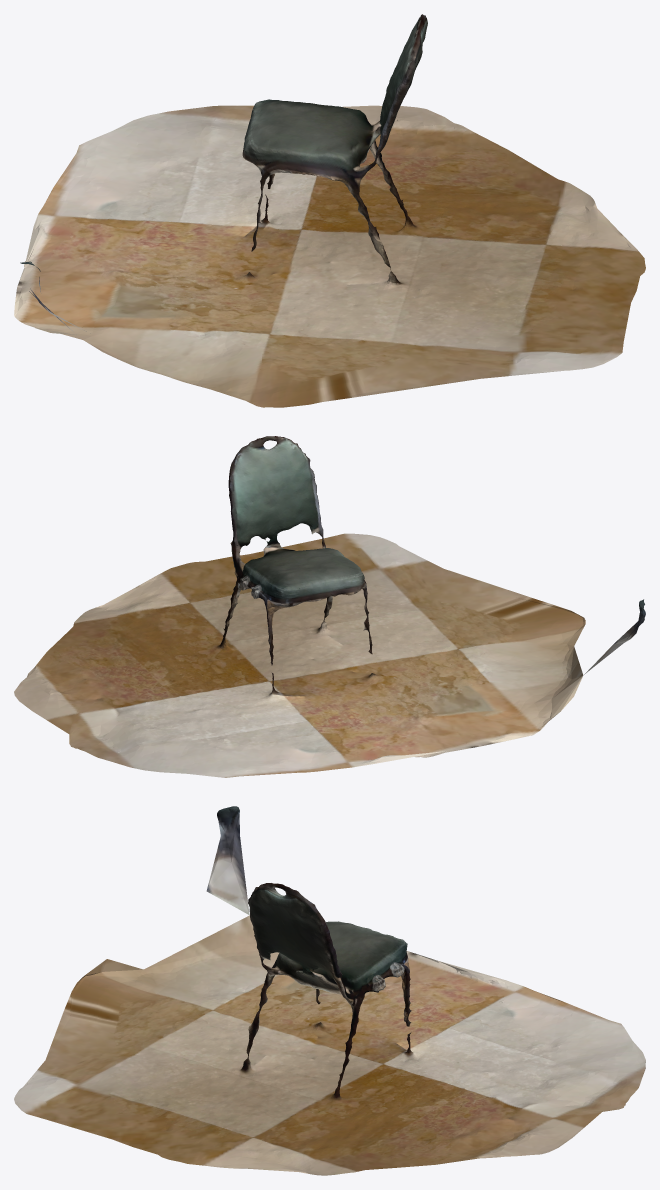
The model's file is Scaniverse 2026-03-20 114441.glb.
The picture shows the model from 3 angles, top to bottom: view 1: azimuth 30°, elevation 25°; view 2: azimuth 150°, elevation 25°; view 3: azimuth 270°, elevation 25°; orthographic projection. The views are drawn at different scales.
Parts seen in each view (by area): view 1: mesh; view 2: mesh; view 3: mesh.
Part boxes in pixels (bbox=[...]): mesh: bbox=[14, 14, 645, 407]; mesh: bbox=[14, 436, 645, 777]; mesh: bbox=[14, 806, 645, 1175].
Size of the model in its own units: 2.36 by 0.8841 by 2.37.
1 material, 1 textured.
